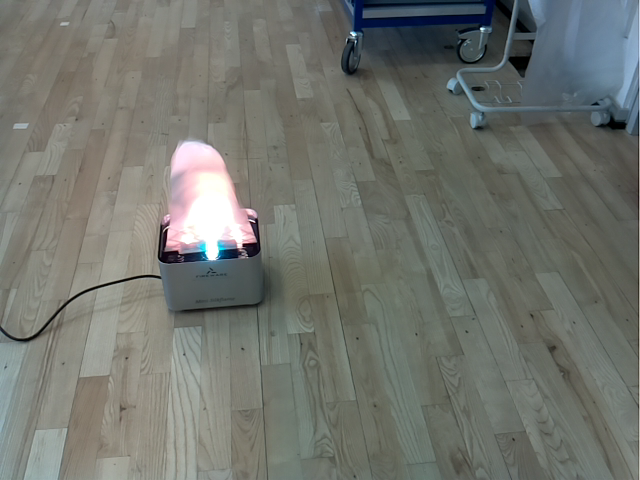fire: (162, 140, 258, 253)
